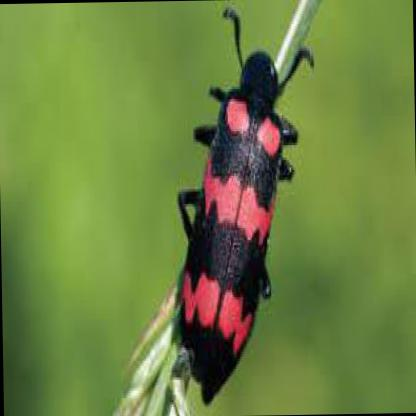blister beetle: (177, 17, 310, 411)
